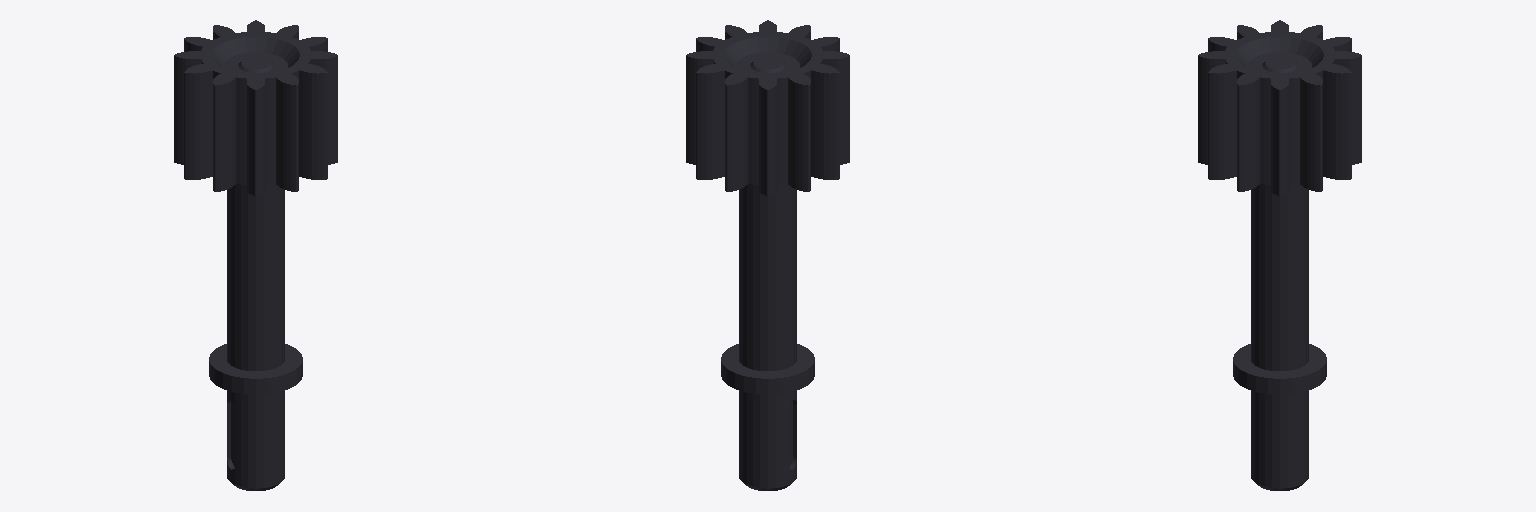
robot.urdf — sun_gear:
<?xml version="1.0"?>
<!--
  SUN GEAR — sun_gear.urdf
  =========================================================================
  Source mesh   : meshes/Sun_Gear.obj  (Fusion 360 export, units = cm)
  Raw bbox      : 1.400 x 1.400 x 4.000  (cm)  ->  14mm dia x 40mm tall
  Scale applied : 0.01  (cm -> m, standard Fusion OBJ export convention)
  Final size    : 14mm dia x 40mm tall  ->  well under the 80mm Franka
                  Panda gripper opening and the 3kg payload limit.

  NOTE: Even though the prompt's "heavy-duty" framing implies scaling is
  needed to bring an oversized part down to graspable size, this mesh's
  native units (cm) already correspond to a small pinion. The 0.01 scale
  is still MANDATORY, because without it Genesis/URDF will interpret the
  raw vertex data as meters and spawn a 1.4m x 4m gear. Do not omit it.

  Mass is hardcoded to 1.0 kg per spec, even though a real 14x40mm steel
  pinion would weigh only a few grams — this is a deliberate simulation
  override to stress-test the Franka's payload margin, not a physically
  accurate density estimate.
-->
<robot name="sun_gear">

  <material name="dark_steel">
    <color rgba="0.22 0.22 0.25 1.0"/>
  </material>

  <link name="sun_gear_link">

    <inertial>
      <!-- Approximated as a solid cylinder: r=0.007m, h=0.04m, m=1.0kg -->
      <origin xyz="0 0 0" rpy="0 0 0"/>
      <mass value="1.0"/>
      <inertia ixx="1.456e-04" ixy="0.0" ixz="0.0"
               iyy="1.456e-04" iyz="0.0"
               izz="2.450e-05"/>
    </inertial>

    <visual>
      <origin xyz="0 0 0" rpy="0 0 0"/>
      <geometry>
        <mesh filename="../meshes/Sun_Gear.obj" scale="0.01 0.01 0.01"/>
      </geometry>
      <material name="dark_steel"/>
    </visual>

    <collision>
      <origin xyz="0 0 0" rpy="0 0 0"/>
      <geometry>
        <!-- Full mesh collision retained (large part, not hardware) -->
        <mesh filename="../meshes/Sun_Gear.obj" scale="0.01 0.01 0.01"/>
      </geometry>
    </collision>

  </link>

  <!--
    Friction: plain URDF has no native contact-friction tag (only joint
    <dynamics> friction, which applies to actuated joints, not grasp
    contacts). The <gazebo> mu1/mu2 block below is the de-facto standard
    extension recognized by many URDF-consuming pipelines. For Genesis
    specifically, set friction on the entity's material at load time:

        sun_gear = scene.add_entity(
            gs.morphs.URDF(file="urdf/sun_gear.urdf"),
            material=gs.materials.Rigid(friction=1.0),
        )

    A friction coefficient of ~1.0 is recommended for a smooth-machined
    steel gear against the Franka's rubber/silicone finger pads.
  -->
  <gazebo reference="sun_gear_link">
    <mu1>1.0</mu1>
    <mu2>1.0</mu2>
  </gazebo>

</robot>

--- Facts derived from the render (not from the file) ---
The picture shows the robot from 3 angles, left to right: view 1: azimuth 30°, elevation 25°; view 2: azimuth 150°, elevation 25°; view 3: azimuth 270°, elevation 25°; orthographic projection.
Robot: sun_gear — 1 links, 0 joints (none); root link sun_gear_link; default pose: every joint at zero.
Visible links, largest first — view 1: sun_gear_link; view 2: sun_gear_link; view 3: sun_gear_link.
Boxes of the visible links, bbox=[...] form: sun_gear_link: bbox=[174, 20, 337, 490]; sun_gear_link: bbox=[686, 20, 849, 490]; sun_gear_link: bbox=[1198, 20, 1361, 490].
Bounding box of the posed robot: 0.014 × 0.014 × 0.04 m (x, y, z).
1 mesh visuals loaded from 1 distinct referenced files (1 OBJ).
